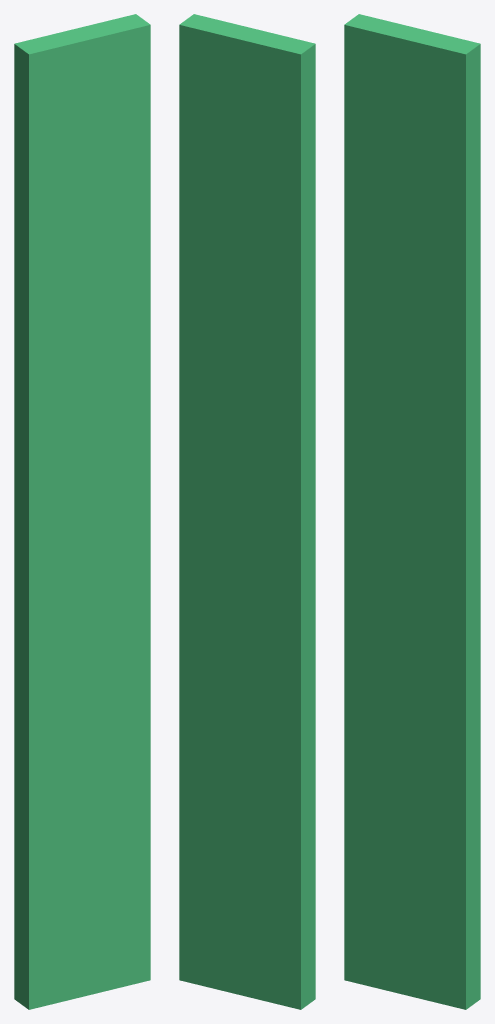
The model's file is Warn_L.dae.
3 renders of one model, left to right at view 1: azimuth 30°, elevation 25°; view 2: azimuth 150°, elevation 25°; view 3: azimuth 330°, elevation 25°, orthographic.
Visible parts, largest first — view 1: Colmesh-1; view 2: Colmesh-1; view 3: Colmesh-1.
Boxes of the visible parts, x1,y1,x2,y2 form: Colmesh-1: (14,14,150,1009); Colmesh-1: (179,14,315,1009); Colmesh-1: (344,14,480,1009).
Size of the model in its own units: 16.37 by 3.43 by 123.
